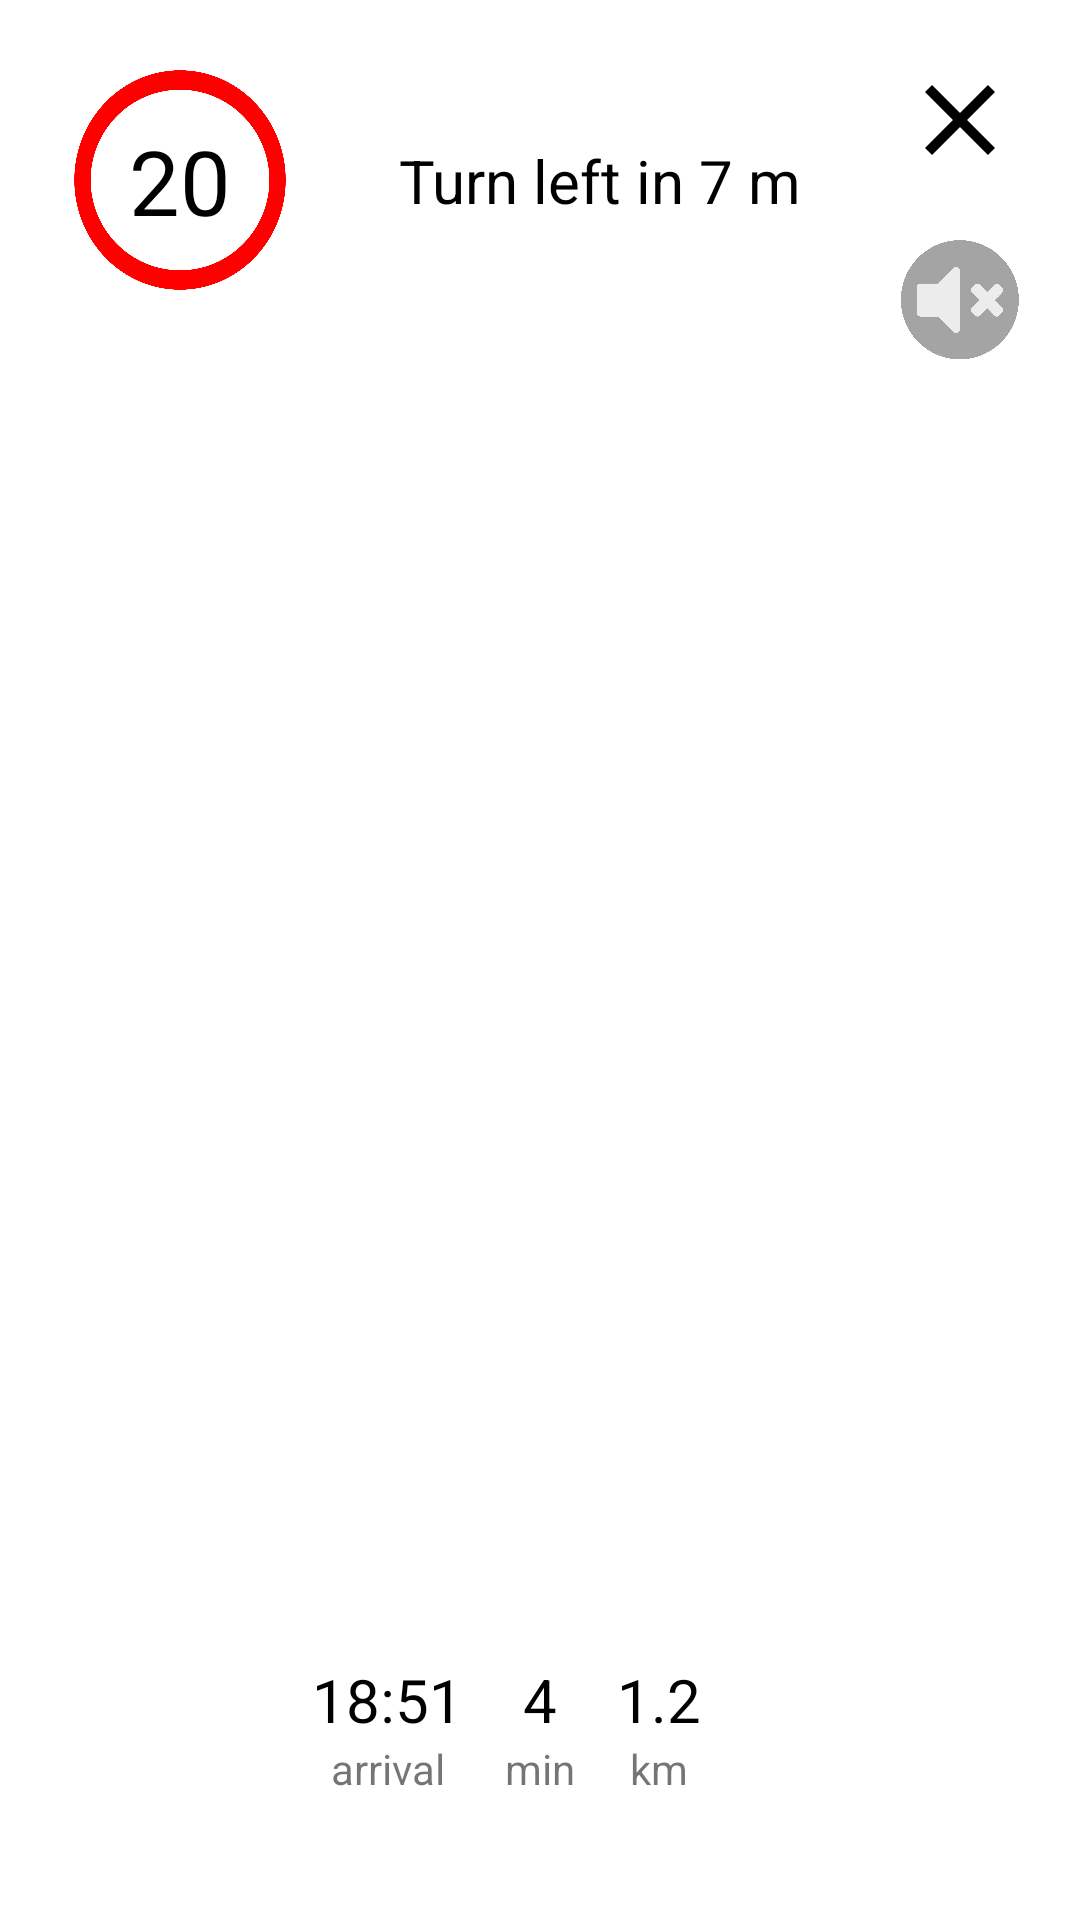

Point at icon controls on the screen. Image size 1080x1920, points as point (x, y).
close: point (960, 120)
volume mute: point (960, 299)
